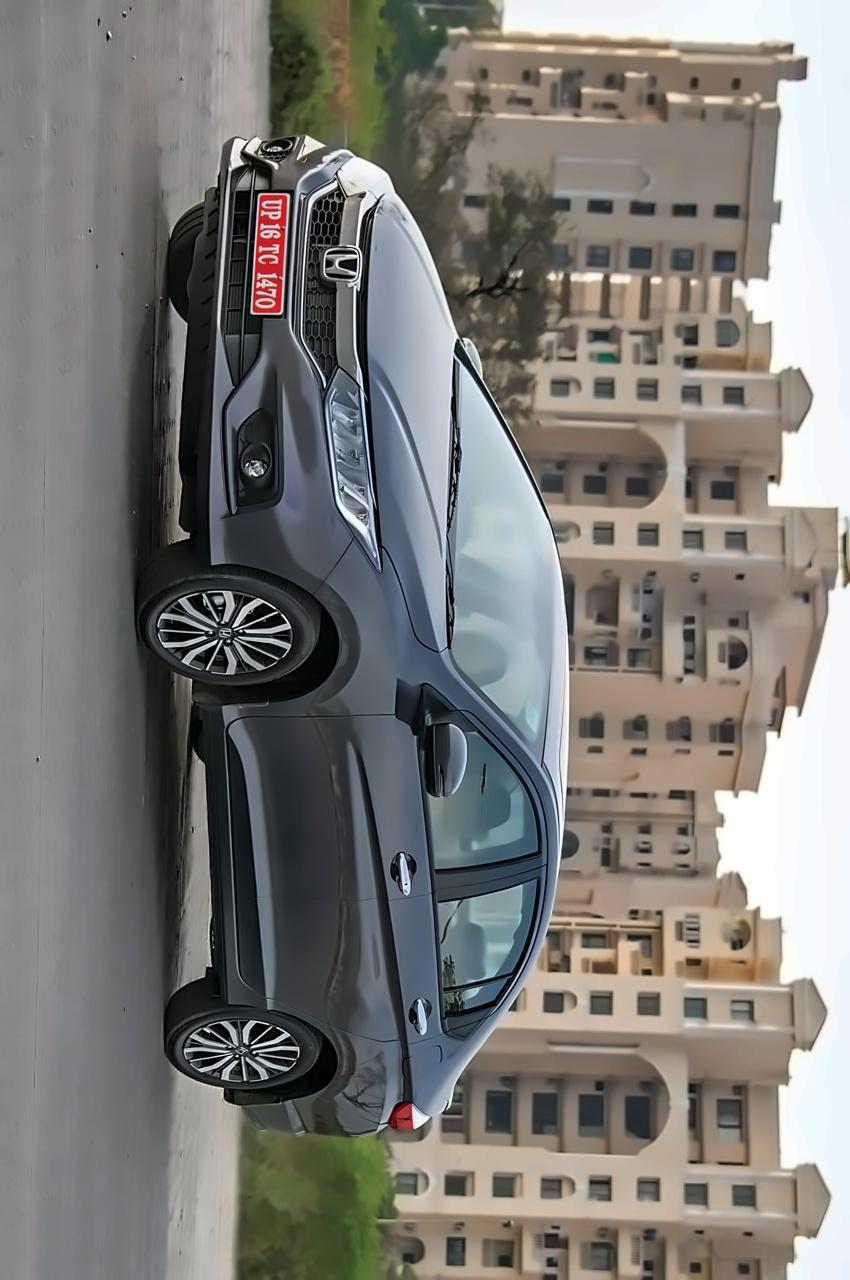Car hood: (350, 186, 461, 655)
Fender - -F-L-: (173, 524, 486, 746)
Fender - -R-L-: (264, 971, 452, 1132)
Front bumper: (160, 122, 353, 600)
Headlight - -L-: (320, 364, 385, 570)
Headlight - -R-: (328, 152, 394, 202)
Passenger-s door - -F-L-: (192, 682, 570, 908)
Passenger-s door - -R-L-: (194, 844, 578, 1046)
Rear bumper: (196, 1072, 319, 1164)
Rear light - -L-: (370, 1098, 436, 1146)
Side bumper - -L-: (166, 687, 292, 1013)
Side mirror - -L-: (396, 680, 468, 805)
